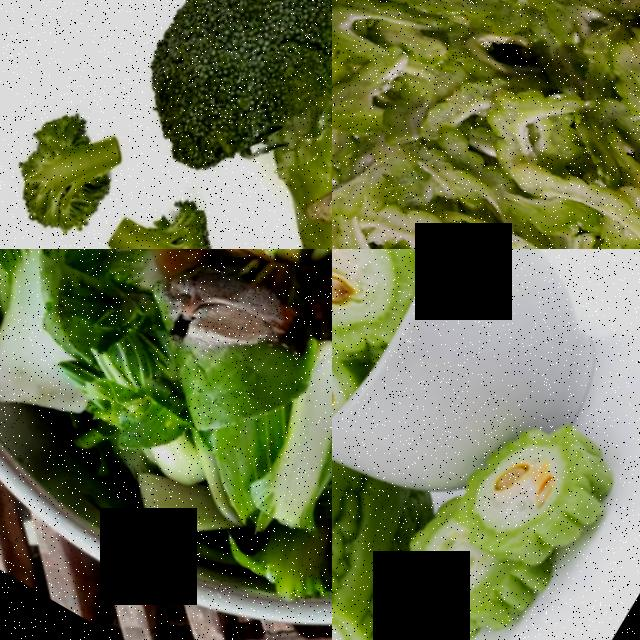bitter gourd: (332, 0, 640, 249), (447, 391, 640, 592), (385, 507, 577, 640), (332, 412, 435, 640), (332, 249, 459, 384)
broccoli: (110, 0, 332, 210), (0, 54, 170, 249), (68, 159, 244, 249)
